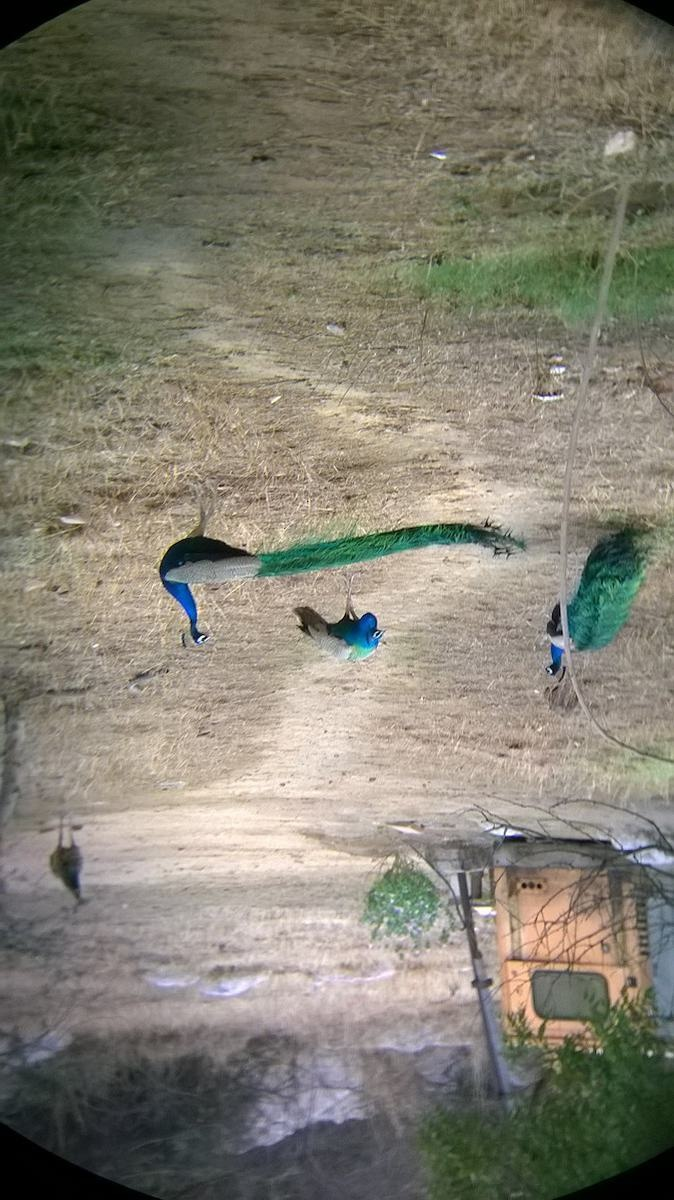peacock: (122, 492, 520, 647), (533, 528, 649, 709), (292, 591, 399, 691)
